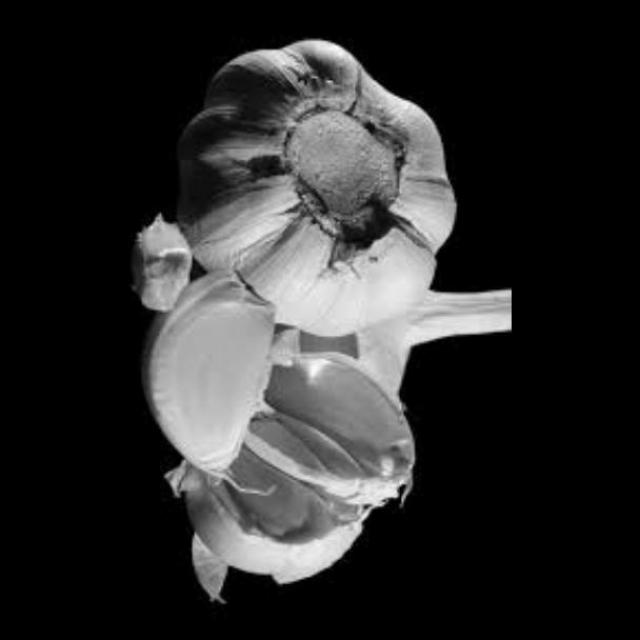toi: (168, 40, 459, 333), (199, 357, 414, 582), (268, 266, 512, 404), (134, 265, 285, 478), (131, 212, 193, 316)
